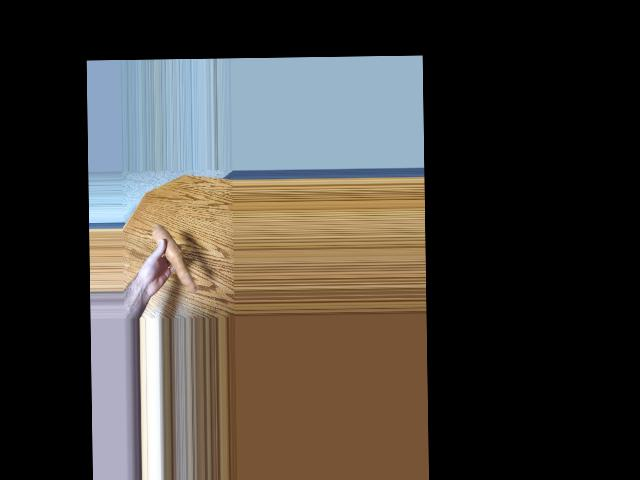sweet_potato: (154, 216, 191, 292)
